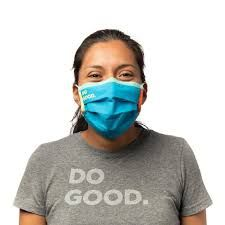with-mask: (75, 37, 150, 140)
